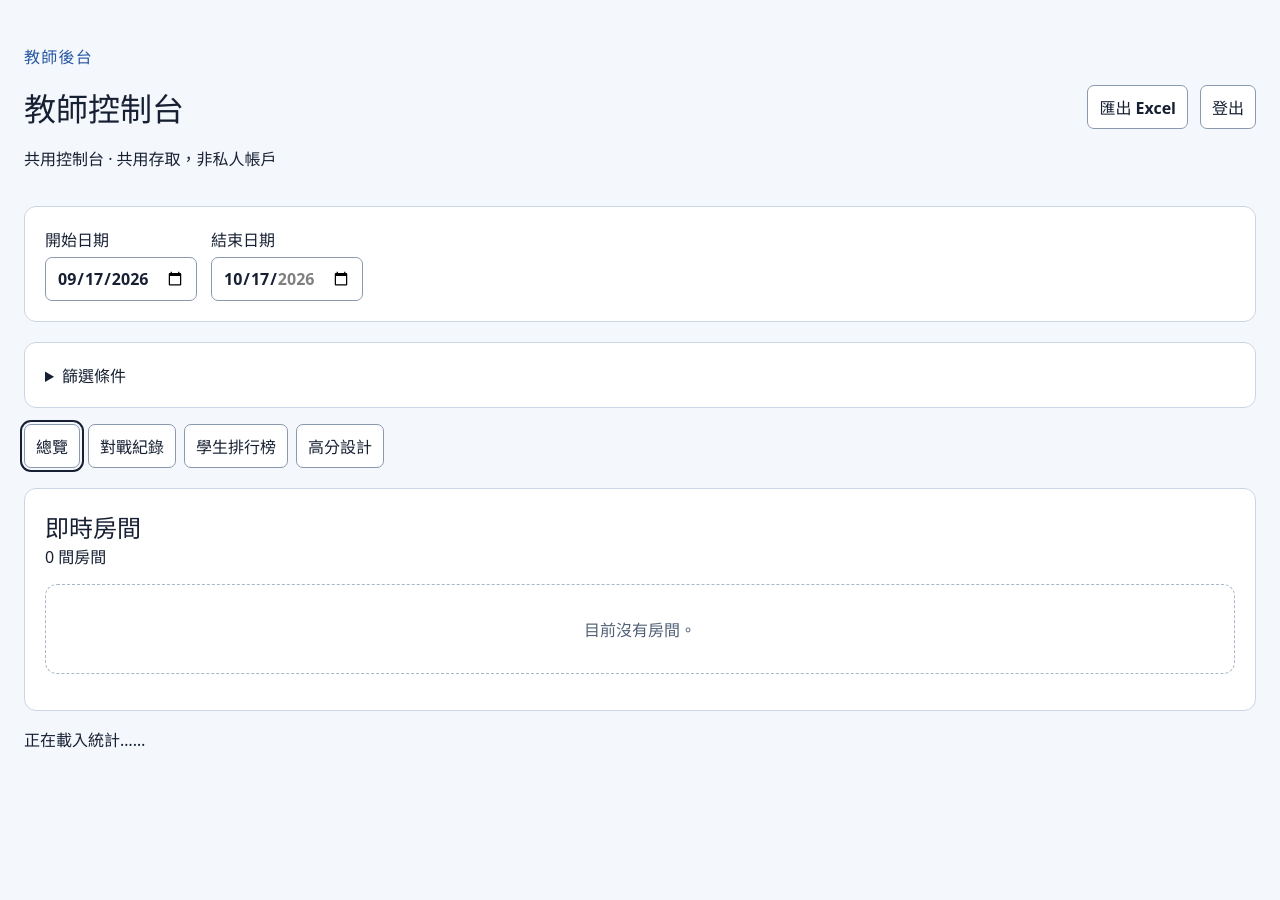
it: shows one of four sections at a time and no password or deletion controls
Click the tab "對戰紀錄": {"x": 132, "y": 446} [88,424,176,468]
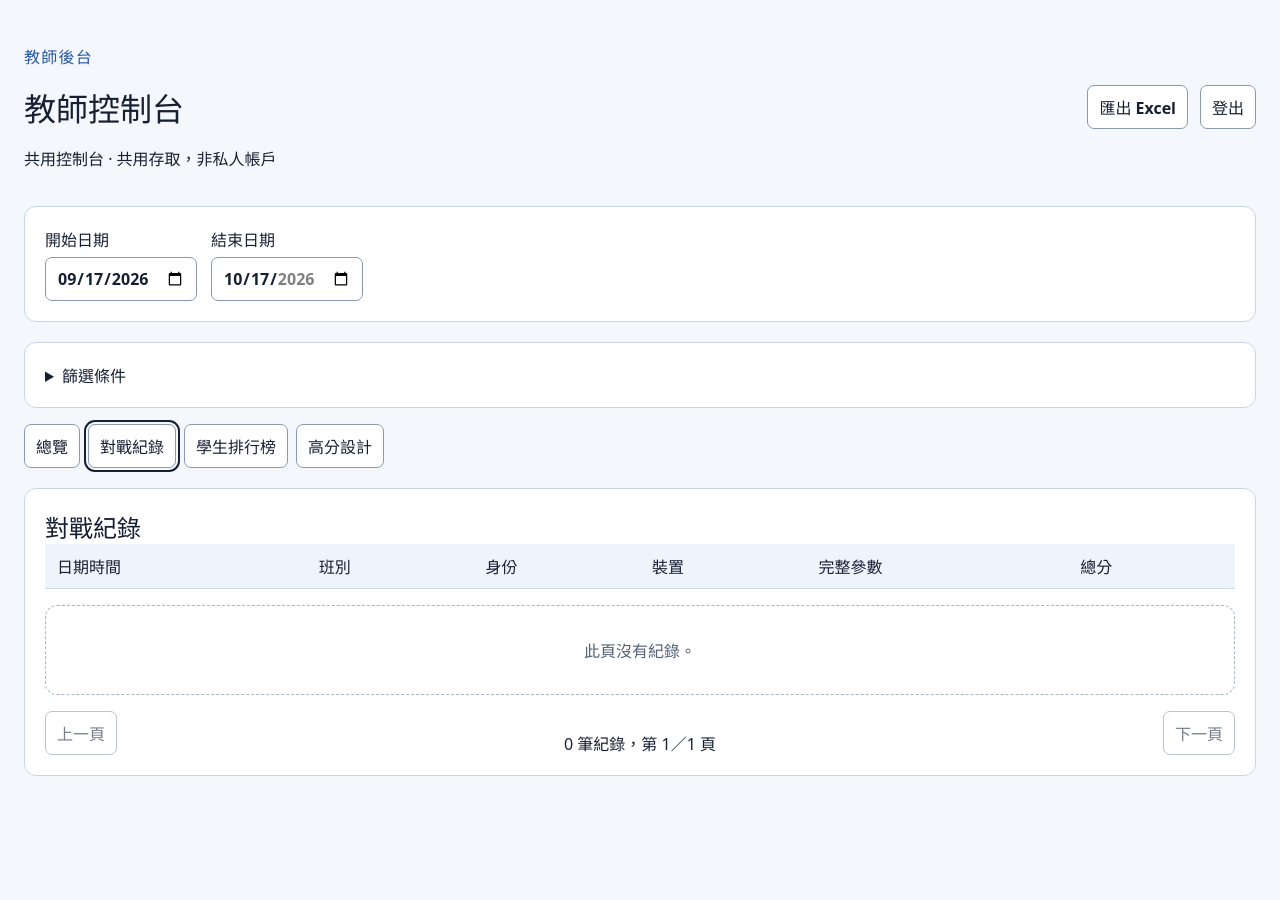
Expected: the heading "歷史紀錄中的高分設計" is not shown
Now the heading "對戰紀錄" is shown, box [45,511,141,544]
Click the tab "高分設計": {"x": 340, "y": 446} [296,424,384,468]
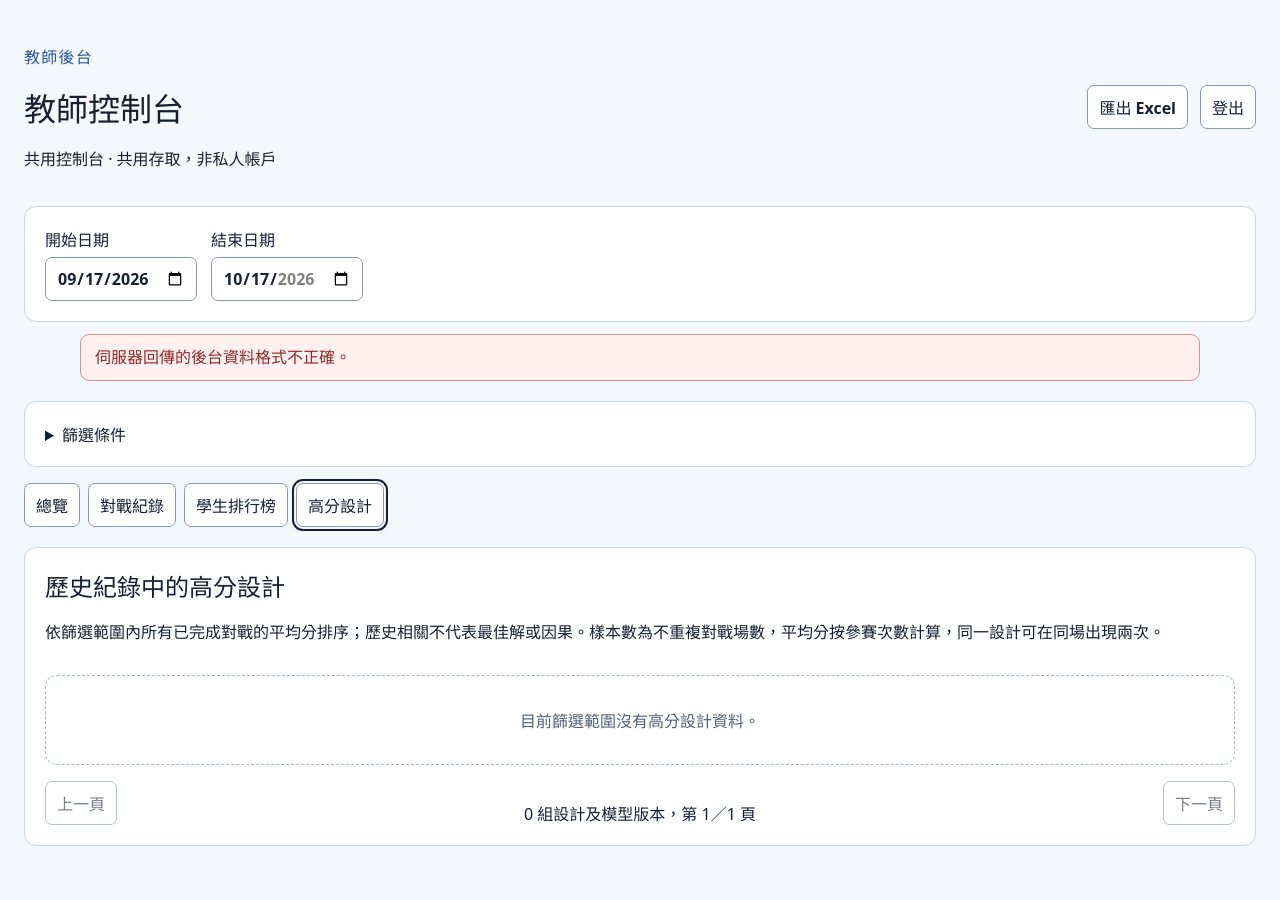
Now the heading "歷史紀錄中的高分設計" is shown, box [45,570,285,603]
